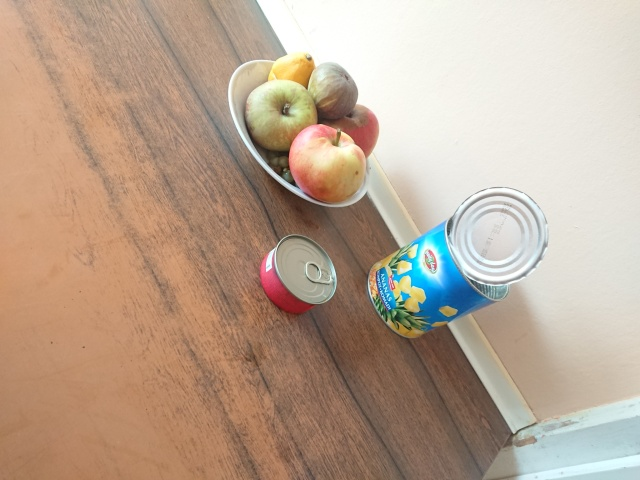Gavrilovic Pork Liver Pate 100g: (257, 232, 340, 317)
